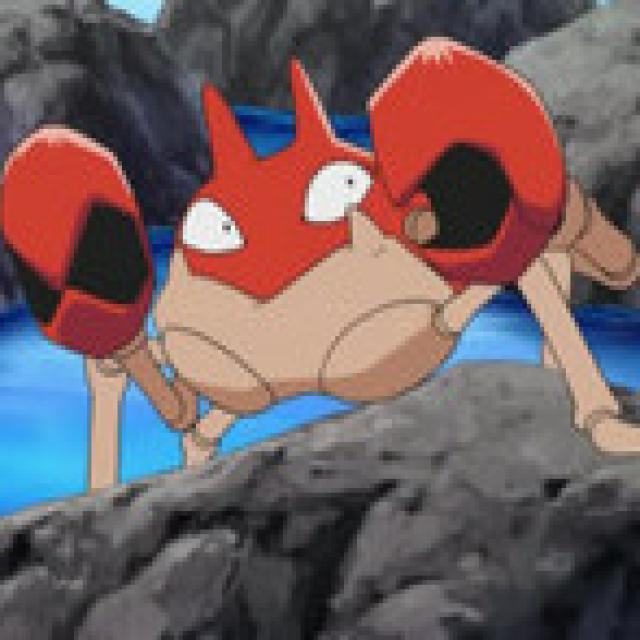Krabby: (38, 62, 521, 419)
